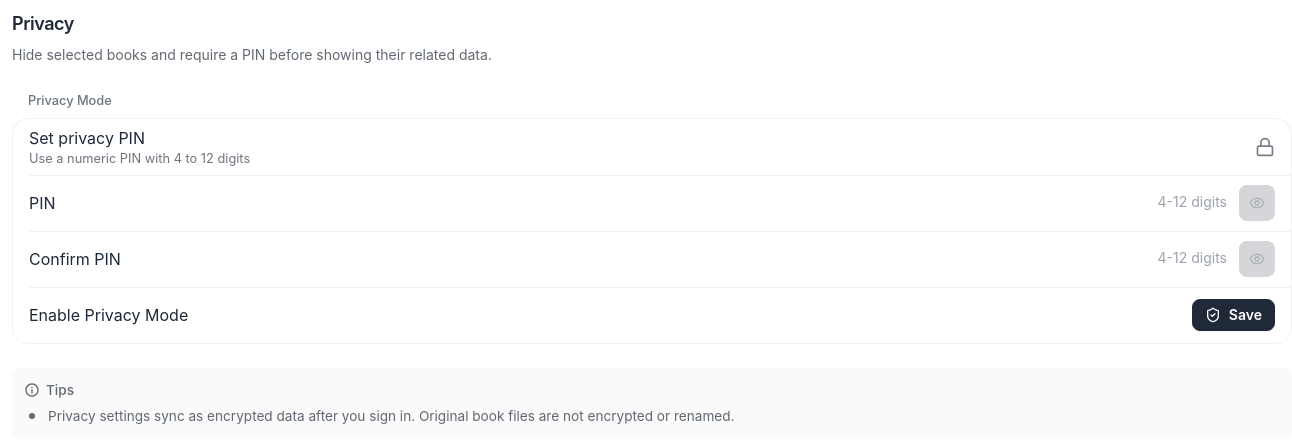
Test case: PrivacyPanel PIN input › marks a mismatched confirmation and clears the error when editing
The image size is (1292, 445).
Type "1234" into the password field labelled "PIN" at (1127, 203), box [1019,185,1235,221]
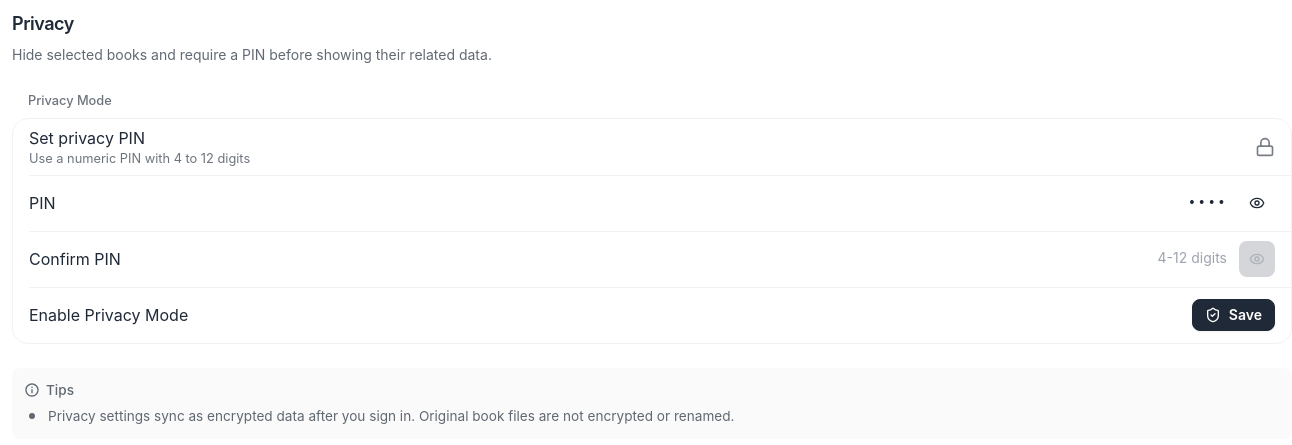
Type "5678" into the password field labelled "Confirm PIN" at (1127, 259), box [1019,241,1235,277]
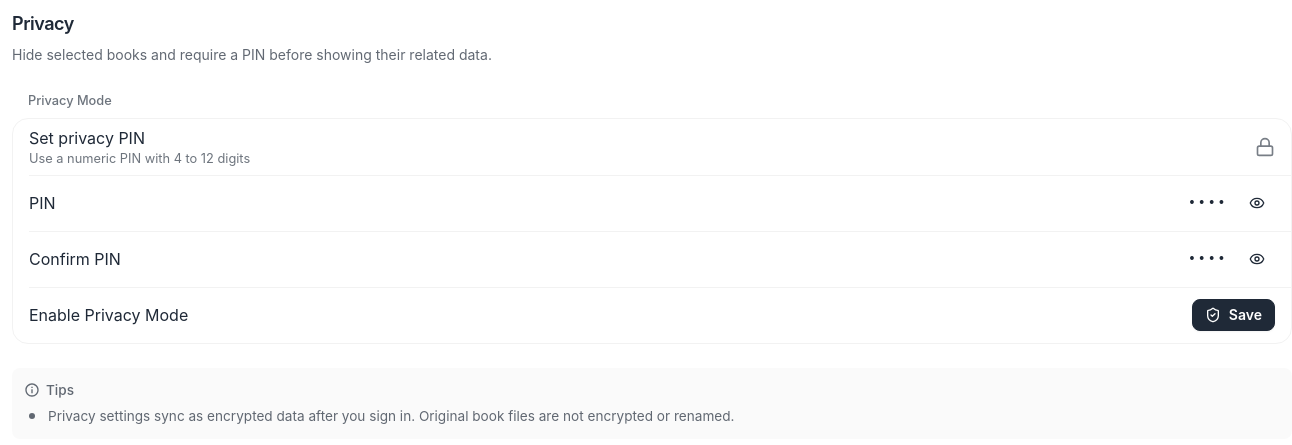
Click the button "Save" at (1233, 315), box [1192,299,1275,331]
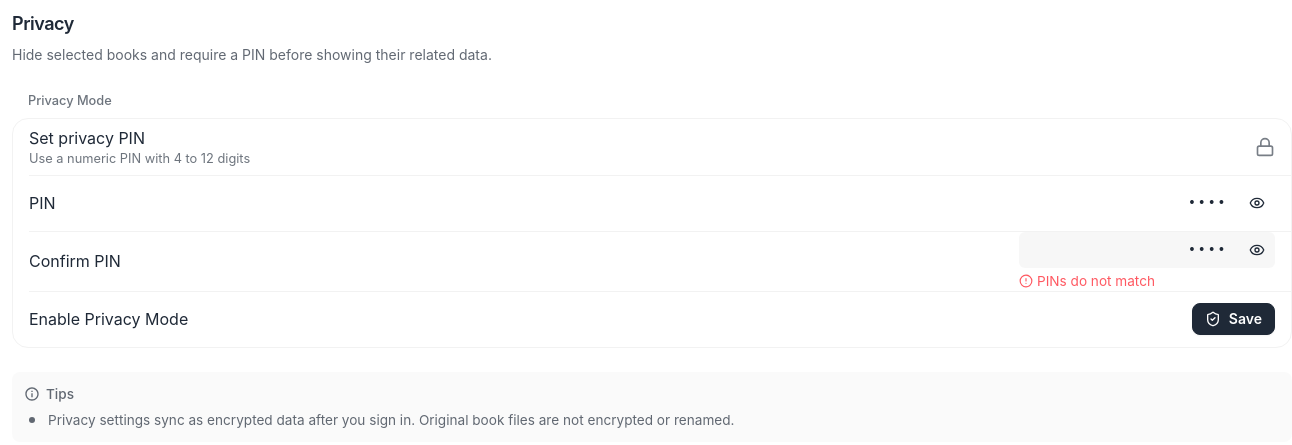
expect the message reads "PINs do not match": met, box [1037,273,1155,289]
Type "1234" into the password field labelled "Confirm PIN" at (1127, 250), box [1019,232,1235,268]
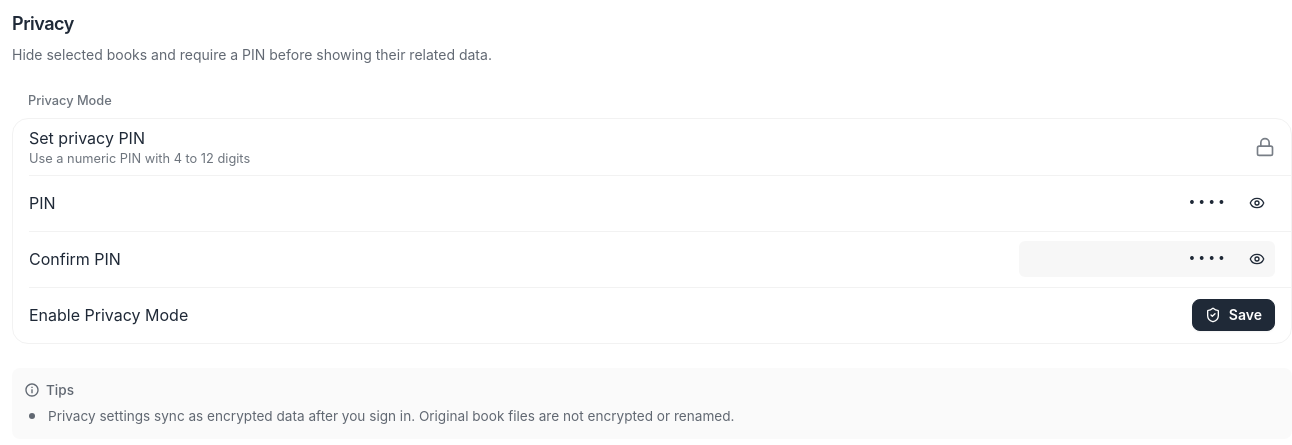
expect the message "PINs do not match" is gone: met
